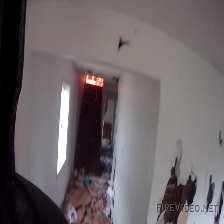fire_l: (86, 74, 103, 87)
